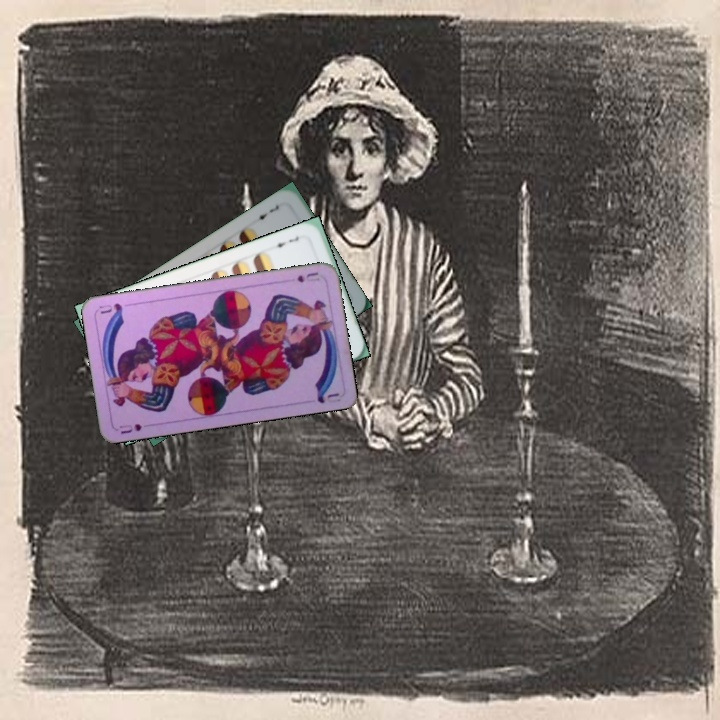E7: (250, 201, 282, 223), (269, 232, 302, 252)
SU: (115, 419, 154, 437), (293, 268, 322, 285)
